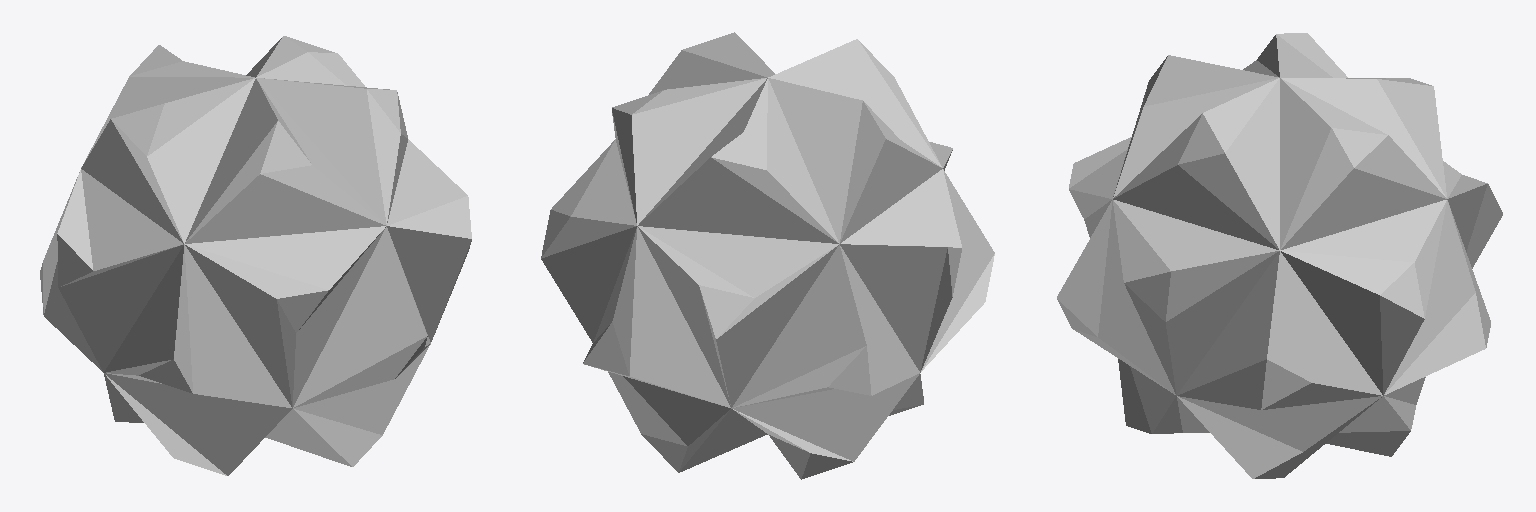
File: waterelement.obj
3 views of the same model, side by side, from view 1: azimuth 30°, elevation 25°; view 2: azimuth 150°, elevation 25°; view 3: azimuth 270°, elevation 25° (orthographic).
Visible parts, largest first — view 1: Icosphere_Icosphere.001; view 2: Icosphere_Icosphere.001; view 3: Icosphere_Icosphere.001.
Part boxes in pixels (x1,y1,x2,y2): Icosphere_Icosphere.001: (40,36,471,475); Icosphere_Icosphere.001: (541,32,994,479); Icosphere_Icosphere.001: (1057,33,1502,478).
Size of the model in its own units: 2.24 by 2.07 by 2.27.